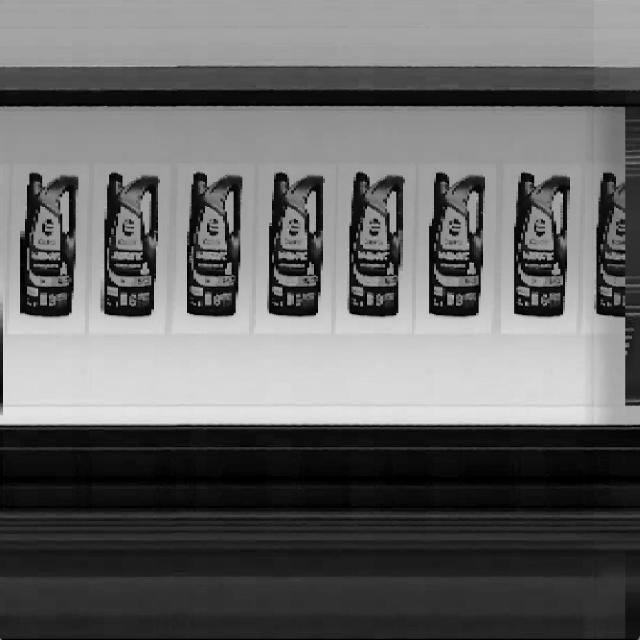motor_oil: (424, 170, 488, 323), (265, 164, 327, 318), (345, 170, 407, 324), (99, 169, 162, 320), (18, 168, 80, 321), (185, 168, 244, 324), (512, 170, 573, 318)
